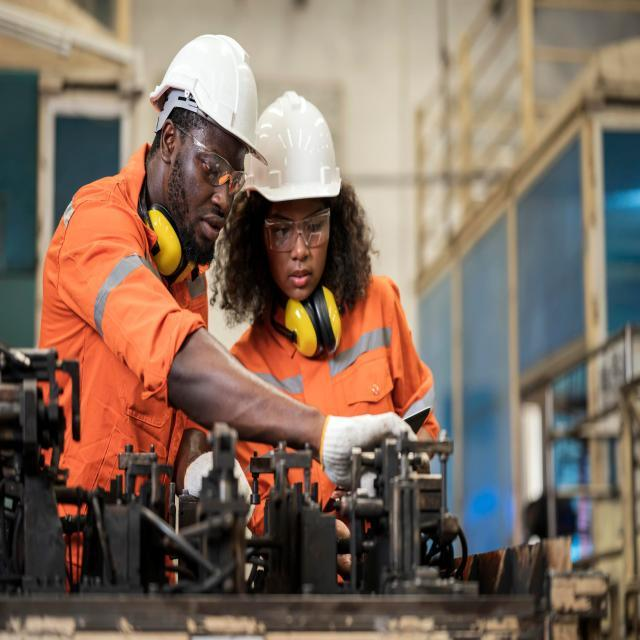reflective_jacket: (236, 275, 424, 586)
safety_helmet: (149, 27, 265, 157), (247, 84, 344, 208), (149, 206, 183, 276)
